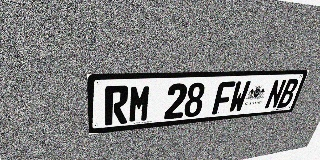2: (164, 83, 188, 119)
8: (183, 82, 207, 118)
B: (277, 79, 300, 108)
F: (212, 81, 236, 115)
M: (128, 84, 152, 123)
N: (264, 79, 287, 109)
R: (105, 85, 129, 125)
W: (227, 81, 251, 113)
